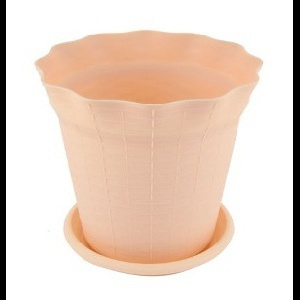flowerpot: (35, 31, 263, 276)
